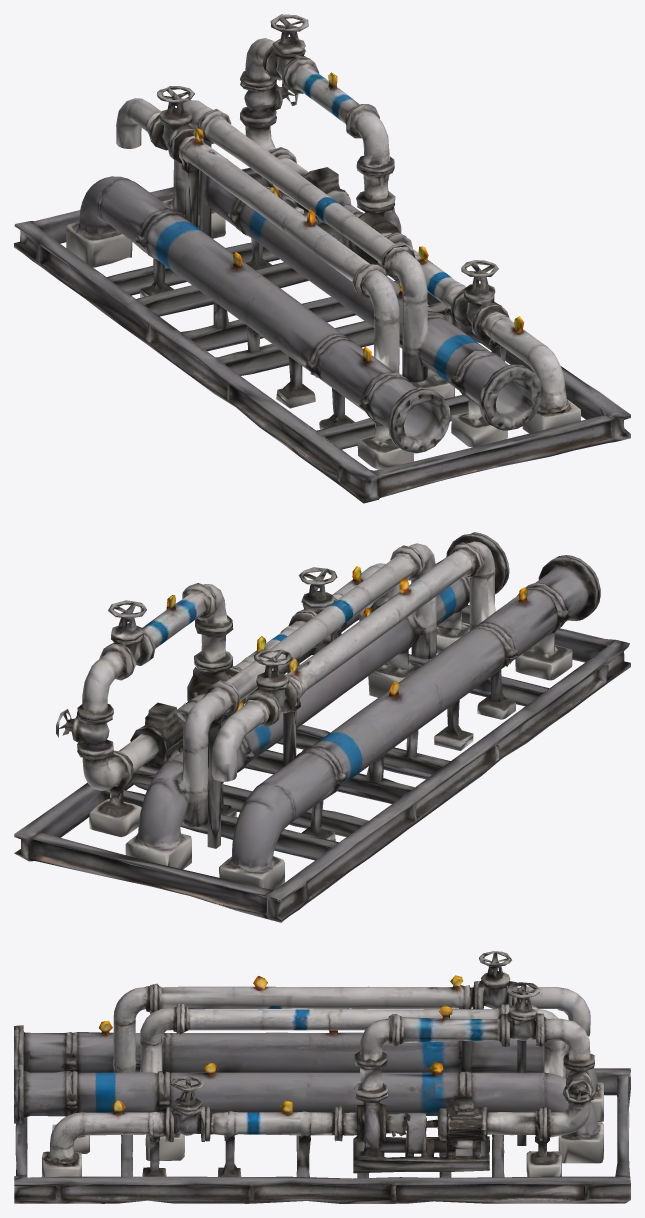
The model's file is manifoldSkid.glb.
3 renders of one model, top to bottom at view 1: azimuth 30°, elevation 25°; view 2: azimuth 150°, elevation 25°; view 3: azimuth 270°, elevation 25°, orthographic. The views are drawn at different scales.
Parts seen in each view (by area): view 1: manifoldSkid; view 2: manifoldSkid; view 3: manifoldSkid.
Boxes of the visible parts, x1,y1,x2,y2 form: manifoldSkid: [14, 14, 630, 503]; manifoldSkid: [14, 532, 630, 922]; manifoldSkid: [14, 951, 630, 1203].
Size of the model in its own units: 5.83 by 4.47 by 13.
Materials: 1 (1 with a texture image).
